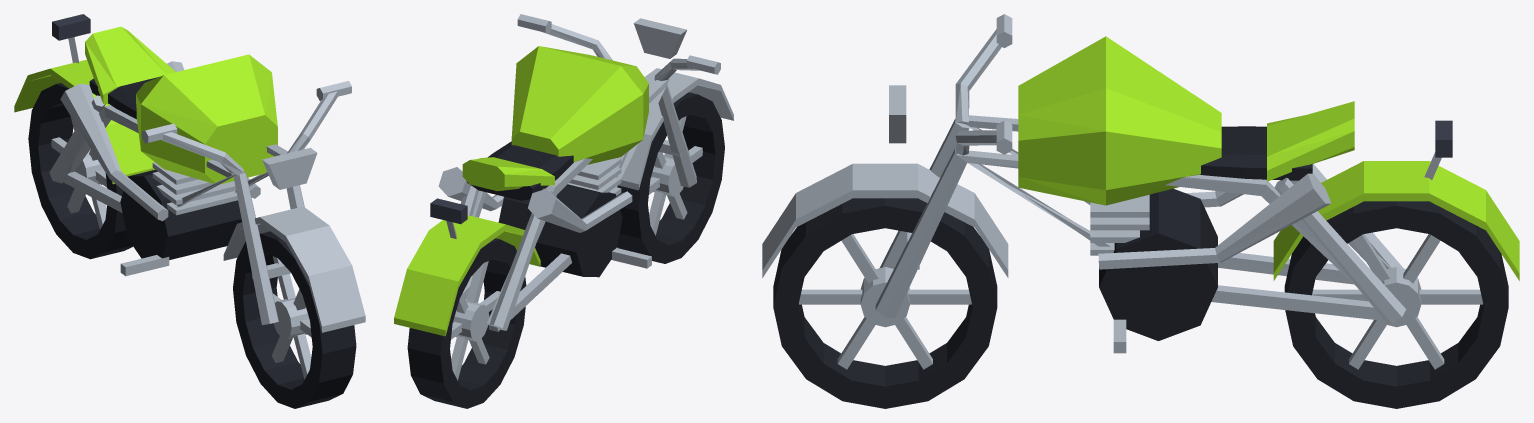
File: streetfighter-750.glb
3 views of the same model, side by side, from view 1: azimuth 30°, elevation 25°; view 2: azimuth 150°, elevation 25°; view 3: azimuth 270°, elevation 25° (orthographic). The views are drawn at different scales.
Visible parts, largest first — view 1: bike_body, fork_mesh, wheel_front, wheel_rear; view 2: bike_body, wheel_rear, wheel_front, fork_mesh; view 3: bike_body, wheel_front, wheel_rear, fork_mesh.
Boxes of the visible parts, x1,y1,x2,y2 form: bike_body: (14,14,287,276); fork_mesh: (142,81,365,332); wheel_front: (233,231,356,408); wheel_rear: (28,83,132,259); bike_body: (394,46,669,336); wheel_rear: (407,238,526,408); wheel_front: (616,92,724,263); fork_mesh: (517,14,733,190); bike_body: (956,36,1519,353); wheel_front: (773,198,997,408); wheel_rear: (1284,201,1508,408); fork_mesh: (762,14,1012,318).
Bounding box in the file's own units: 0.84 × 1.06 × 2.16.
